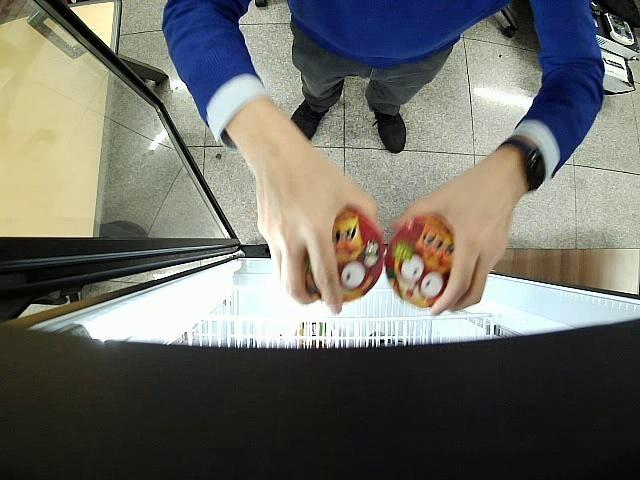06_nuguri_S: (306, 208, 384, 302), (384, 214, 455, 307)
